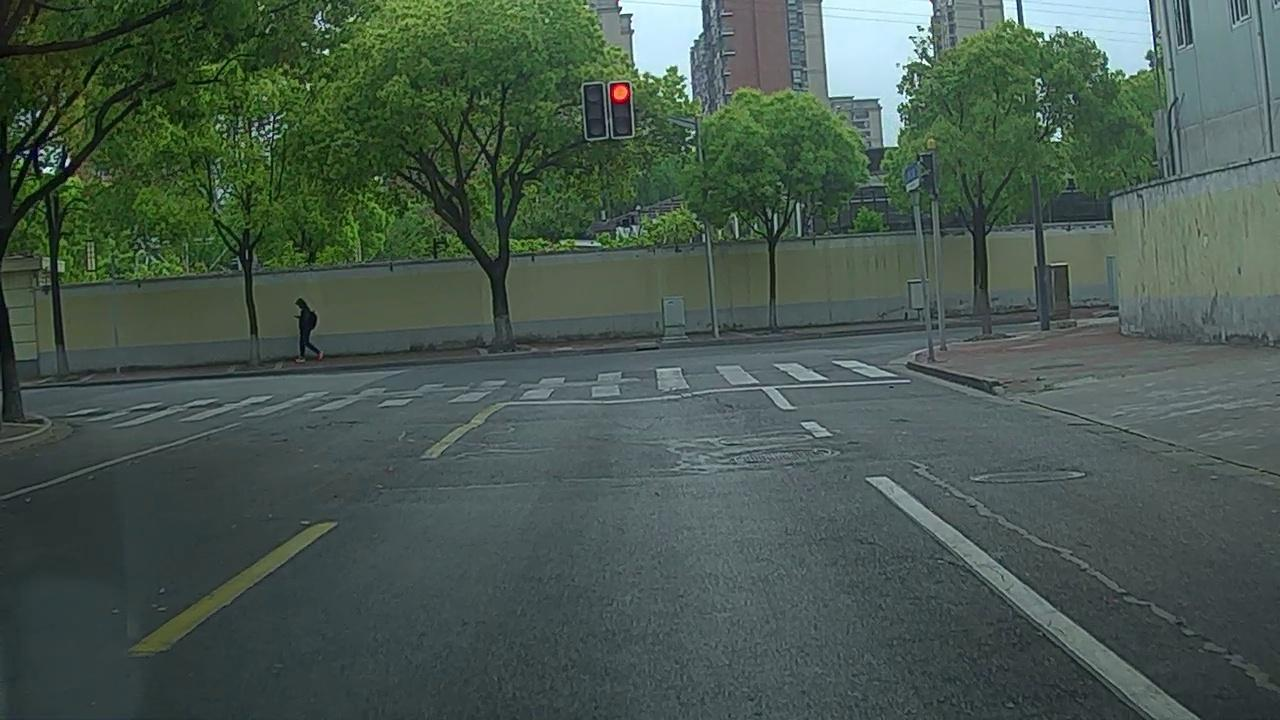traffic_light: (584, 82, 607, 139), (609, 82, 632, 139)
